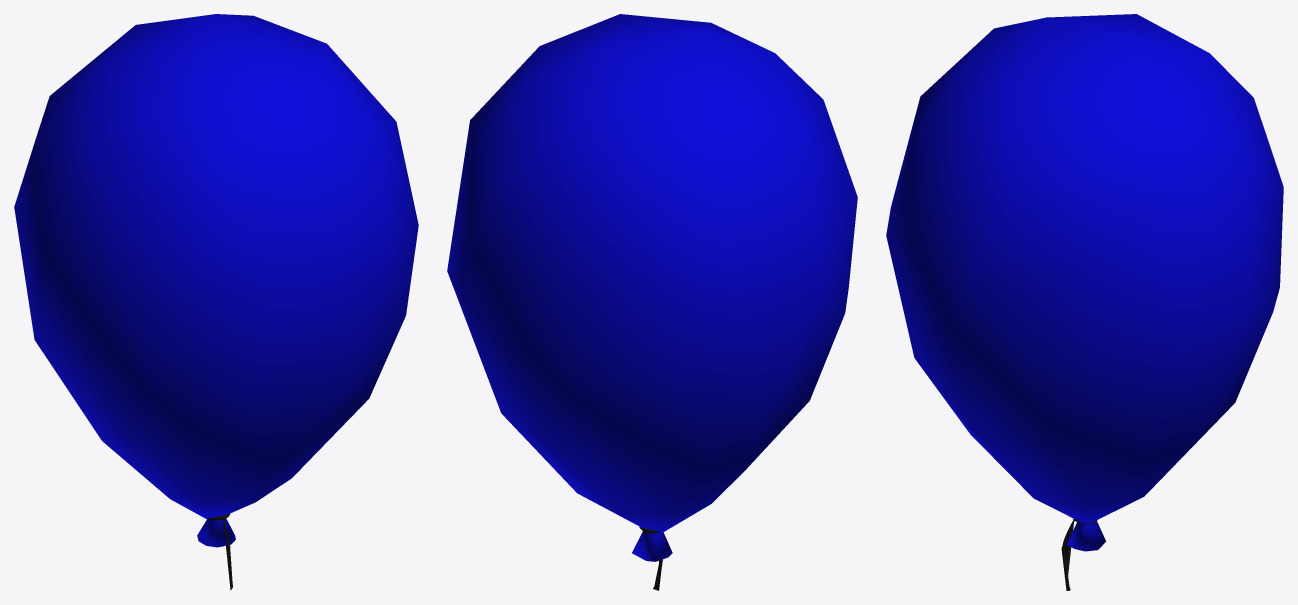
File: GloboAzul.obj
The picture shows the model from 3 angles, left to right: view 1: azimuth 30°, elevation 25°; view 2: azimuth 150°, elevation 25°; view 3: azimuth 270°, elevation 25°; orthographic projection. The views are drawn at different scales.
Visible parts, largest first — view 1: Cube.003, Cylinder.006; view 2: Cube.003, Cylinder.006; view 3: Cube.003, Cylinder.006.
Part boxes in pixels (x1,y1,x2,y2): Cube.003: (14, 14, 418, 519); Cylinder.006: (197, 514, 235, 547); Cube.003: (447, 14, 857, 533); Cylinder.006: (632, 528, 672, 561); Cube.003: (886, 14, 1283, 523); Cylinder.006: (1066, 521, 1105, 551).
Size of the model in its own units: 2.16 by 3.33 by 2.15.
